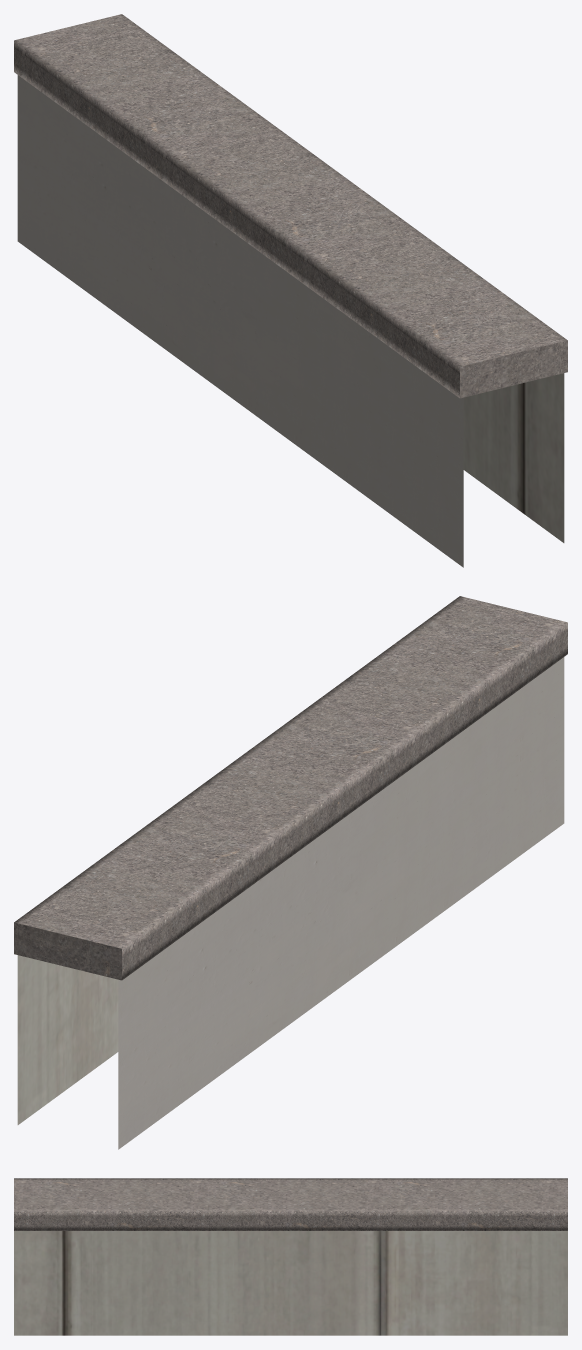
File: BuildingD_Ledge_VarB_mdl.fbx
The picture shows the model from 3 angles, top to bottom: view 1: azimuth 30°, elevation 25°; view 2: azimuth 150°, elevation 25°; view 3: azimuth 270°, elevation 25°; orthographic projection. The views are drawn at different scales.
Visible parts, largest first — view 1: BuildingD_Ledge_VarB_LOD0; view 2: BuildingD_Ledge_VarB_LOD0; view 3: BuildingD_Ledge_VarB_LOD0.
Boxes of the visible parts, left/top/right/bottom form: BuildingD_Ledge_VarB_LOD0: left=14, top=14, right=567, bottom=567; BuildingD_Ledge_VarB_LOD0: left=14, top=596, right=567, bottom=1149; BuildingD_Ledge_VarB_LOD0: left=14, top=1178, right=567, bottom=1335.
Size of what is drawn, in the model's own units: 55.96 by 100 by 400.
